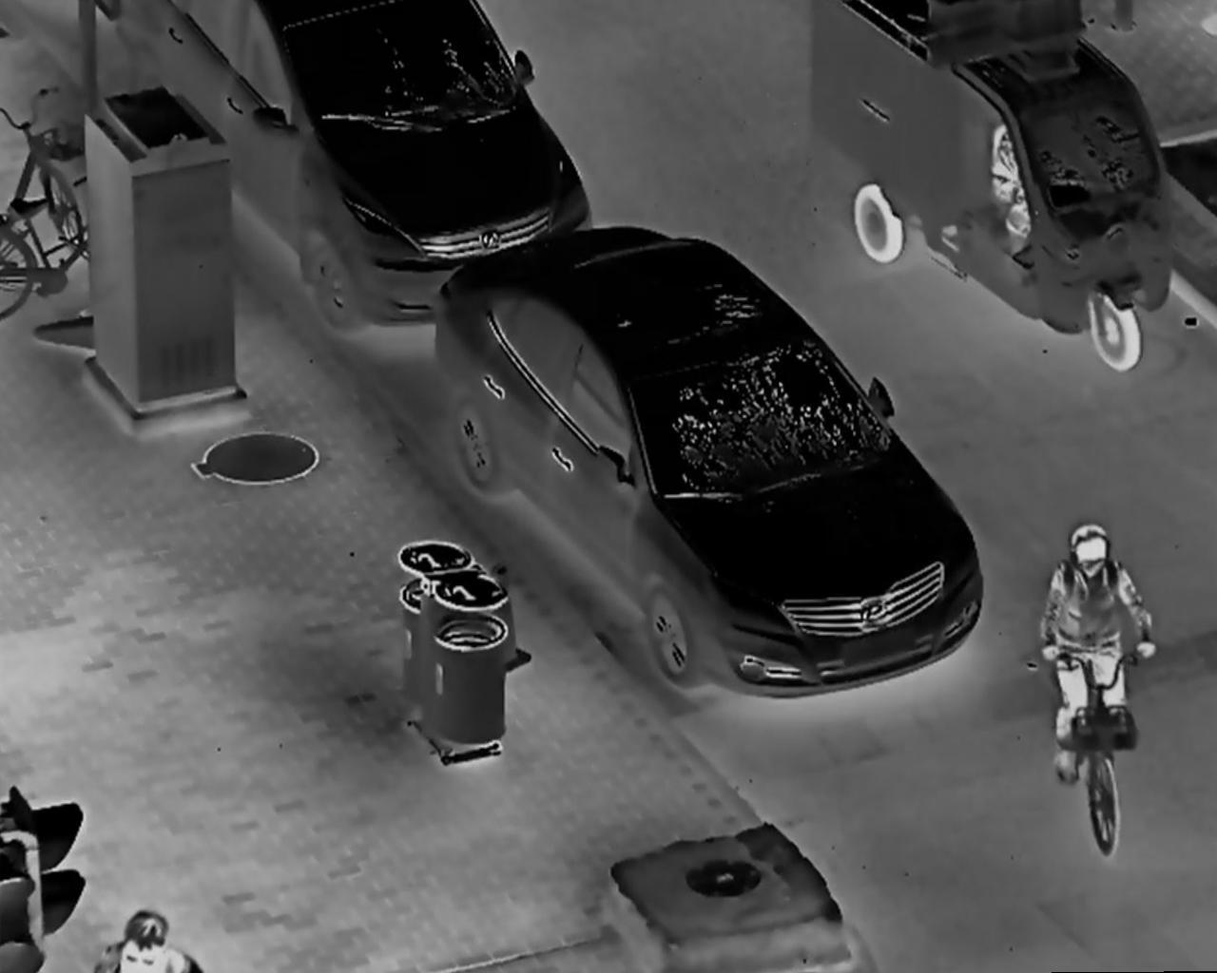person: (1031, 520, 1160, 795), (87, 906, 205, 973)
